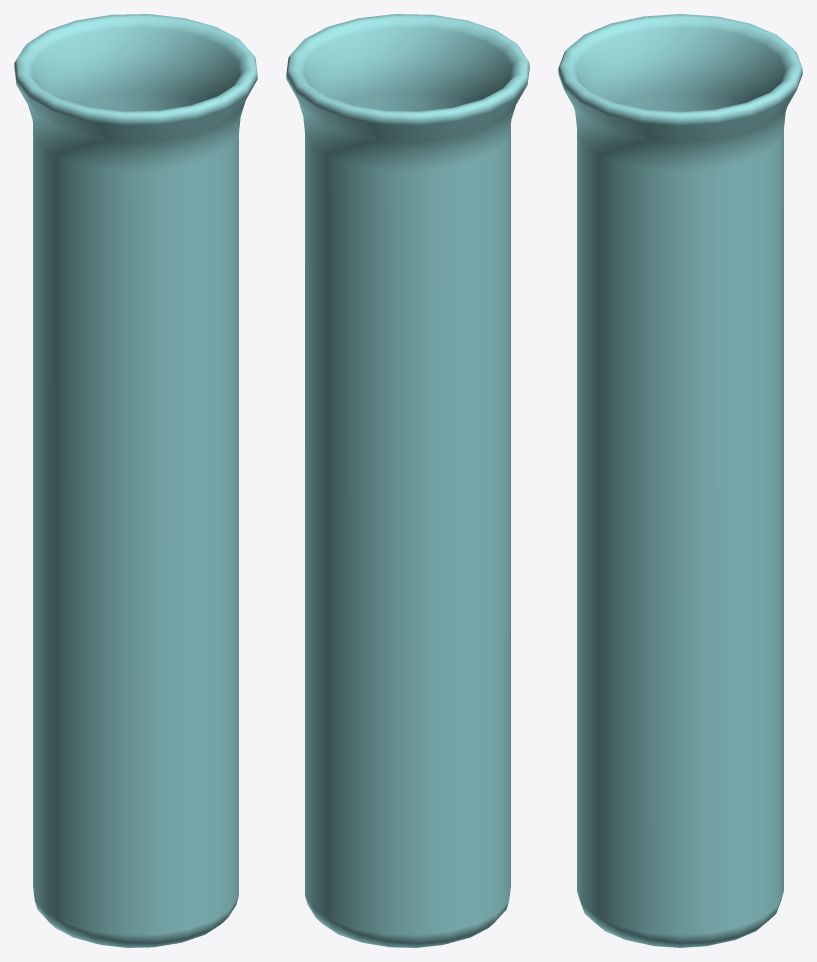
Rendered from Vial 2.fbx.
3 renders of one model, left to right at view 1: azimuth 30°, elevation 25°; view 2: azimuth 150°, elevation 25°; view 3: azimuth 270°, elevation 25°, orthographic.
Visible parts, largest first — view 1: Flask_01; view 2: Flask_01; view 3: Flask_01.
Part boxes in pixels (box(x1,y1,x2,y2)): Flask_01: box(14, 14, 257, 947); Flask_01: box(286, 14, 529, 947); Flask_01: box(558, 14, 802, 947).
Size of the model in its own units: 0.0664 by 0.255 by 0.0664.
